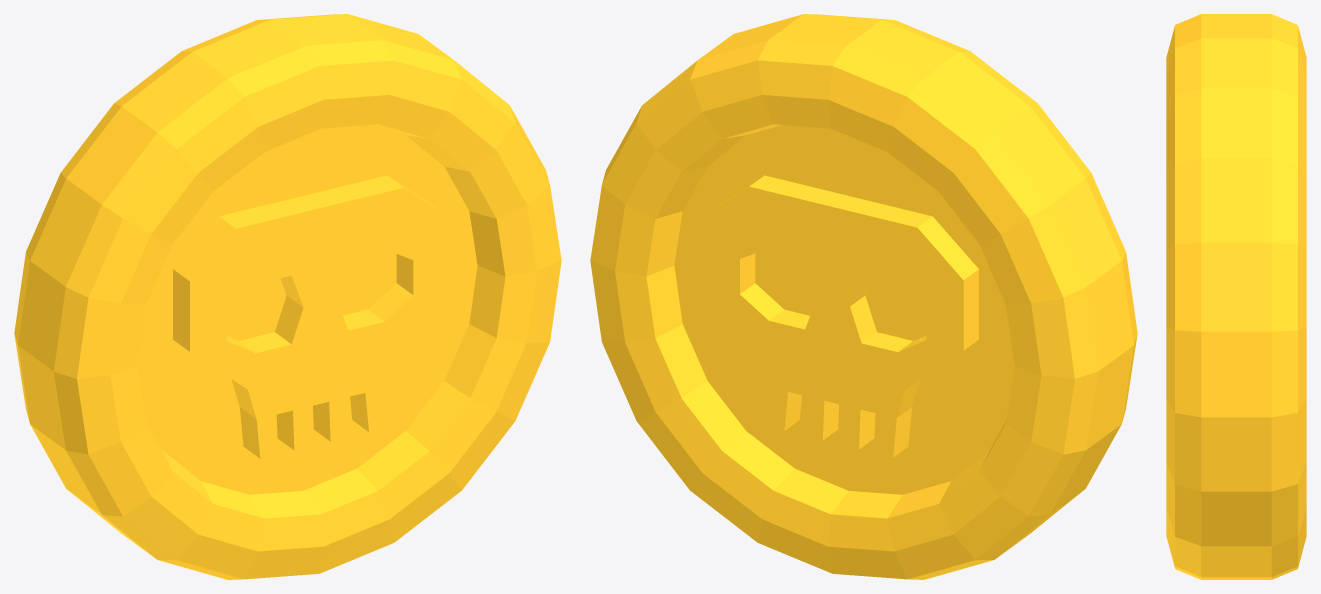
File: coin_skull.glb
3 views of the same model, side by side, from view 1: azimuth 30°, elevation 25°; view 2: azimuth 150°, elevation 25°; view 3: azimuth 270°, elevation 25° (orthographic). The views are drawn at different scales.
Parts seen in each view (by area): view 1: Coin_Skull; view 2: Coin_Skull; view 3: Coin_Skull.
Part boxes in pixels (x1,y1,x2,y2): Coin_Skull: [14, 14, 561, 579]; Coin_Skull: [590, 14, 1137, 579]; Coin_Skull: [1166, 14, 1306, 579].
Bounding box in the file's own units: 73.67 × 73.77 × 18.12.
